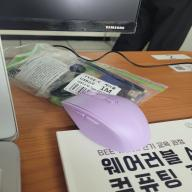mouse: (59, 89, 153, 153)
